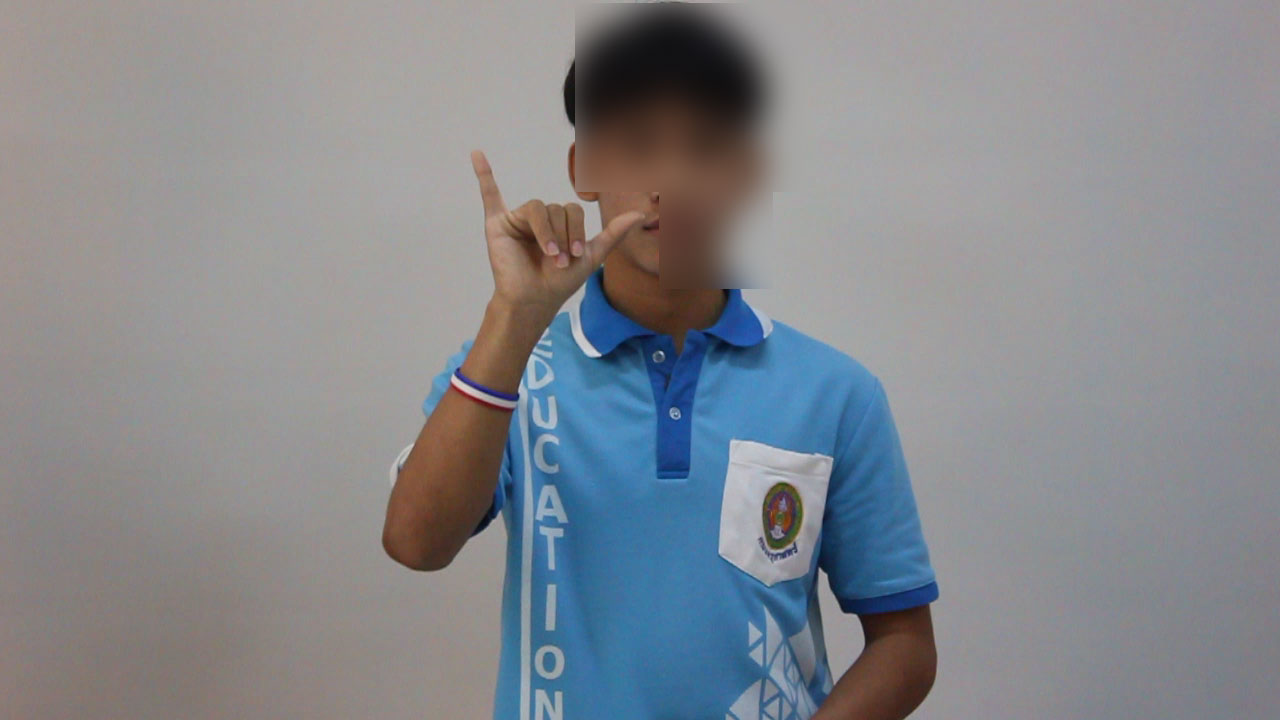yor: (460, 137, 651, 321)
